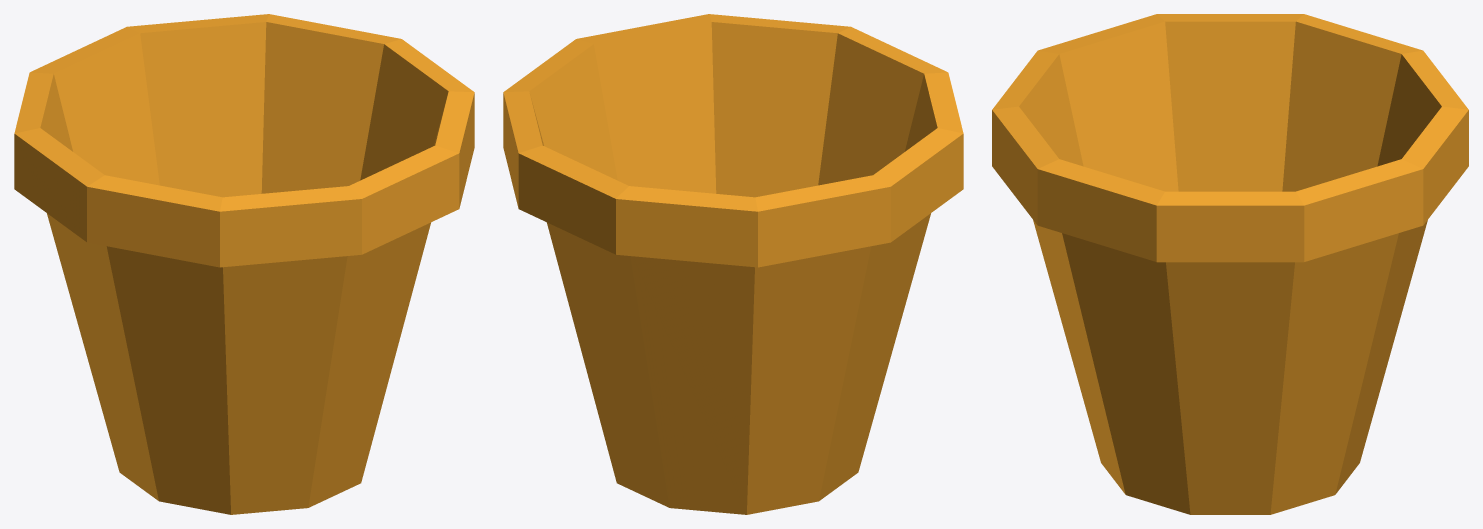
Rendered from SM_Pot_Clay_Big_A.fbx.
3 renders of one model, left to right at view 1: azimuth 30°, elevation 25°; view 2: azimuth 150°, elevation 25°; view 3: azimuth 270°, elevation 25°, orthographic.
Visible parts, largest first — view 1: pot-clay-big-a; view 2: pot-clay-big-a; view 3: pot-clay-big-a.
Part boxes in pixels (left/top/right/bottom): pot-clay-big-a: left=14, top=14, right=474, bottom=514; pot-clay-big-a: left=503, top=14, right=963, bottom=514; pot-clay-big-a: left=992, top=14, right=1468, bottom=514.
Size of the model in its own units: 0.3003 by 0.2604 by 0.3157.
